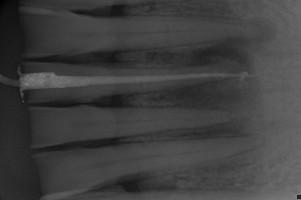Furcation Involvement: (143, 17, 278, 139)
